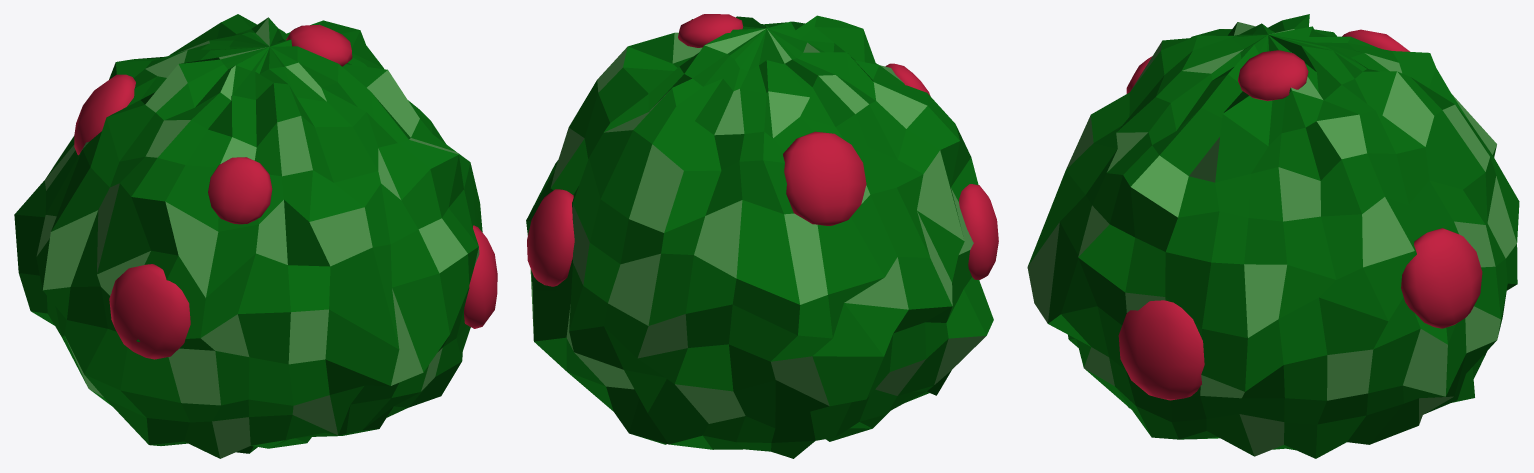
File: buisson_marecage.fbx
The picture shows the model from 3 angles, left to right: view 1: azimuth 30°, elevation 25°; view 2: azimuth 150°, elevation 25°; view 3: azimuth 270°, elevation 25°; orthographic projection. The views are drawn at different scales.
Visible parts, largest first — view 1: Sphere; view 2: Sphere; view 3: Sphere.
Part boxes in pixels (left/top/right/bottom): Sphere: left=14, top=14, right=497, bottom=458; Sphere: left=526, top=14, right=998, bottom=458; Sphere: left=1027, top=14, right=1519, bottom=458.
Bounding box in the file's own units: 321 × 274 × 326.
